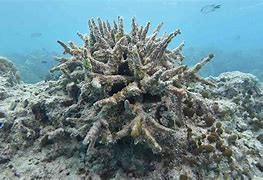bleached_corals: (0, 17, 263, 180)
